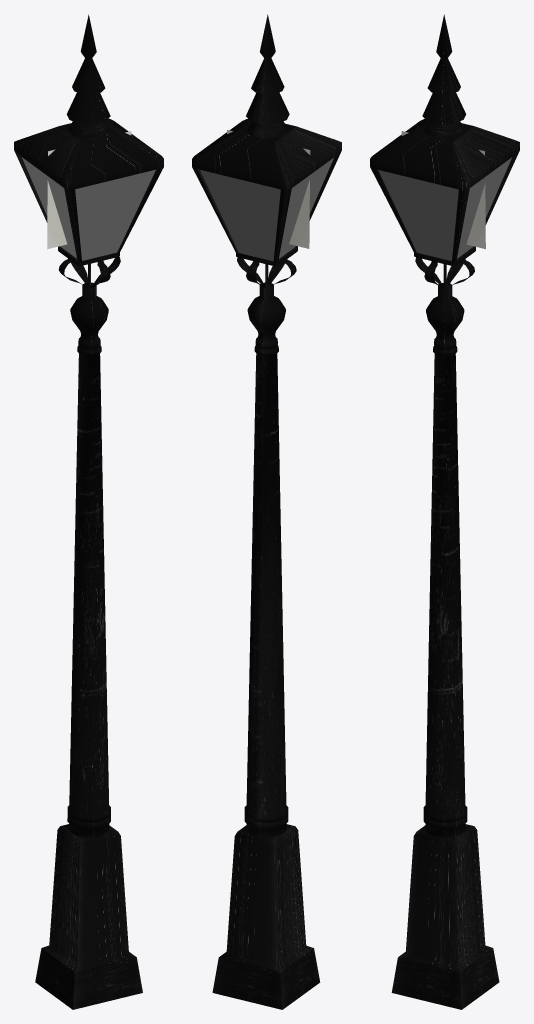
File: light_5.obj
3 renders of one model, left to right at view 1: azimuth 30°, elevation 25°; view 2: azimuth 150°, elevation 25°; view 3: azimuth 330°, elevation 25°, orthographic.
Parts seen in each view (by area): view 1: Box012, Box0122, lensflare_1; view 2: Box012, Box0122, lensflare_1; view 3: Box012, Box0122, lensflare_1.
Part boxes in pixels (<box>): Box012: <box>14,14,163,1009</box>; Box0122: <box>22,157,155,260</box>; lensflare_1: <box>47,131,131,249</box>; Box012: <box>192,14,341,1009</box>; Box0122: <box>200,158,333,261</box>; lensflare_1: <box>227,130,310,248</box>; Box012: <box>370,14,519,1009</box>; Box0122: <box>378,157,511,260</box>; lensflare_1: <box>401,131,485,249</box>.
Size of the model in its own units: 16.4 by 156 by 16.3.
4 materials, 3 textured.
